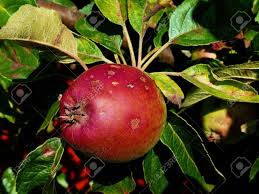damaged_apple: (59, 67, 171, 163)
